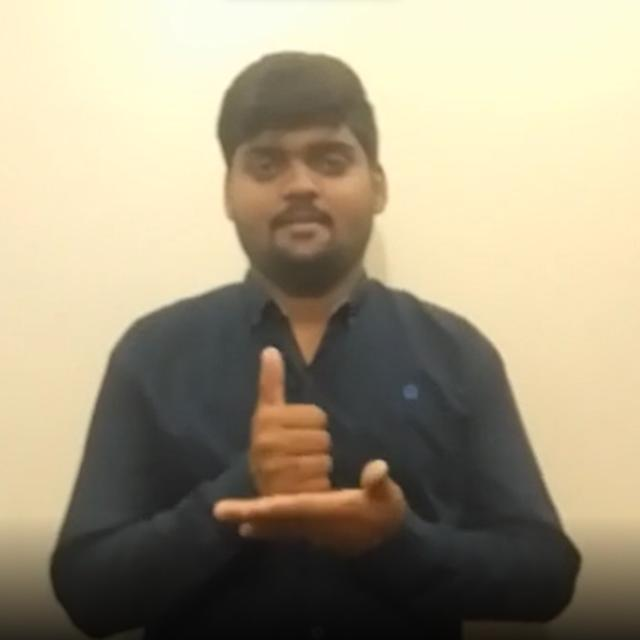help: (213, 347, 404, 554)
